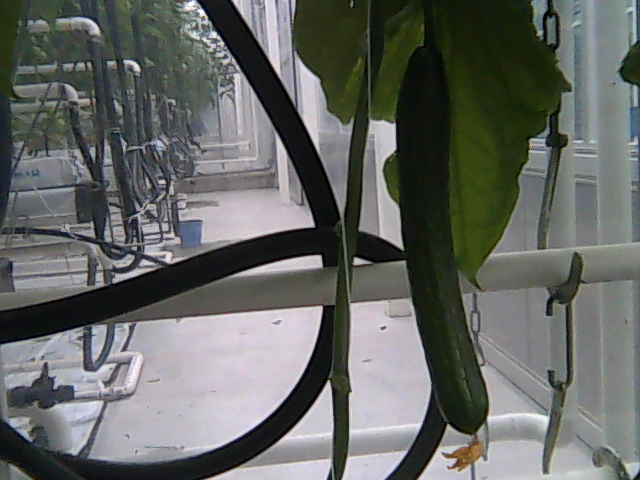concombre: (392, 30, 494, 470)
